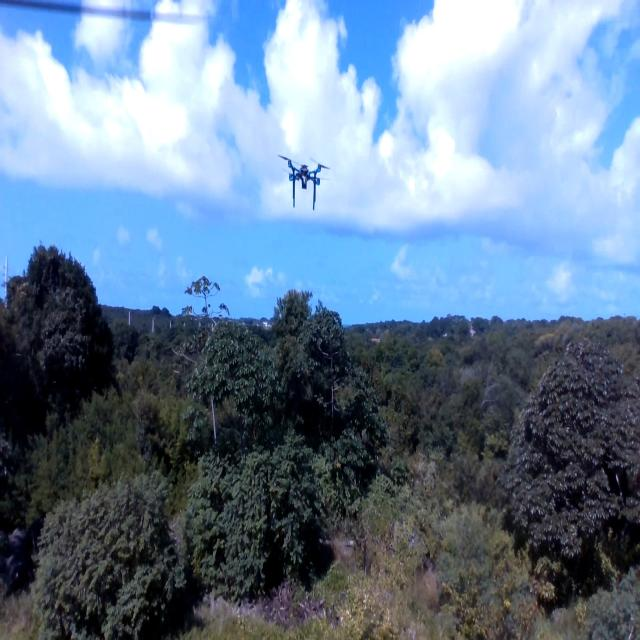-uav-: (268, 130, 340, 222)
